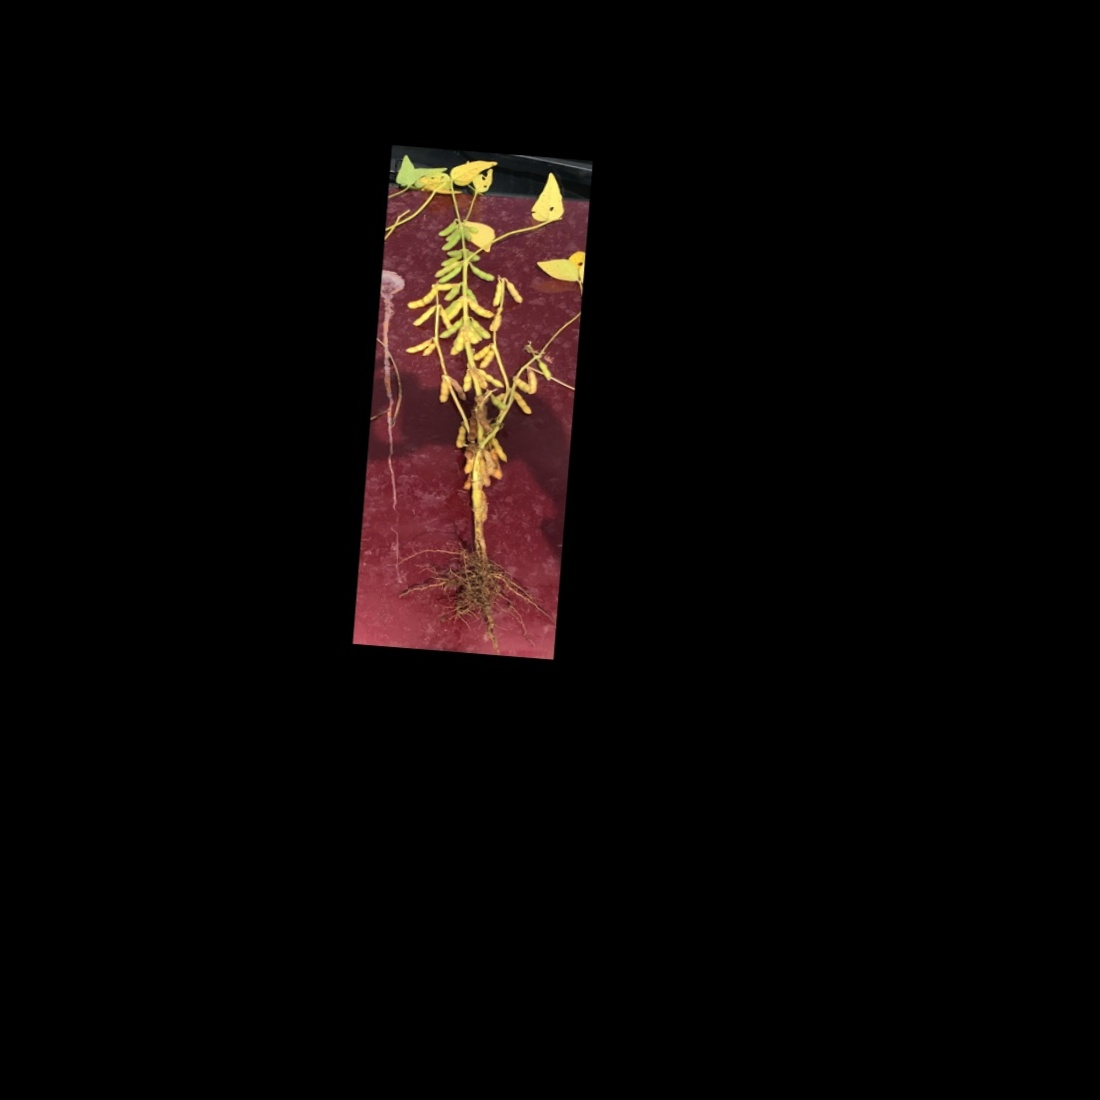pod: (404, 282, 441, 313), (507, 389, 538, 419), (472, 364, 507, 389), (463, 260, 497, 284), (501, 278, 527, 308), (433, 258, 465, 282), (437, 313, 464, 341), (434, 263, 464, 288), (400, 333, 433, 356), (466, 295, 497, 319), (438, 229, 464, 254), (410, 305, 437, 329), (487, 437, 511, 464), (476, 346, 503, 370), (433, 375, 452, 407), (441, 281, 463, 307), (467, 263, 498, 282), (489, 274, 505, 307), (460, 366, 477, 396), (508, 374, 537, 391), (434, 220, 459, 238), (452, 421, 468, 449)
soy: (360, 161, 579, 638)
